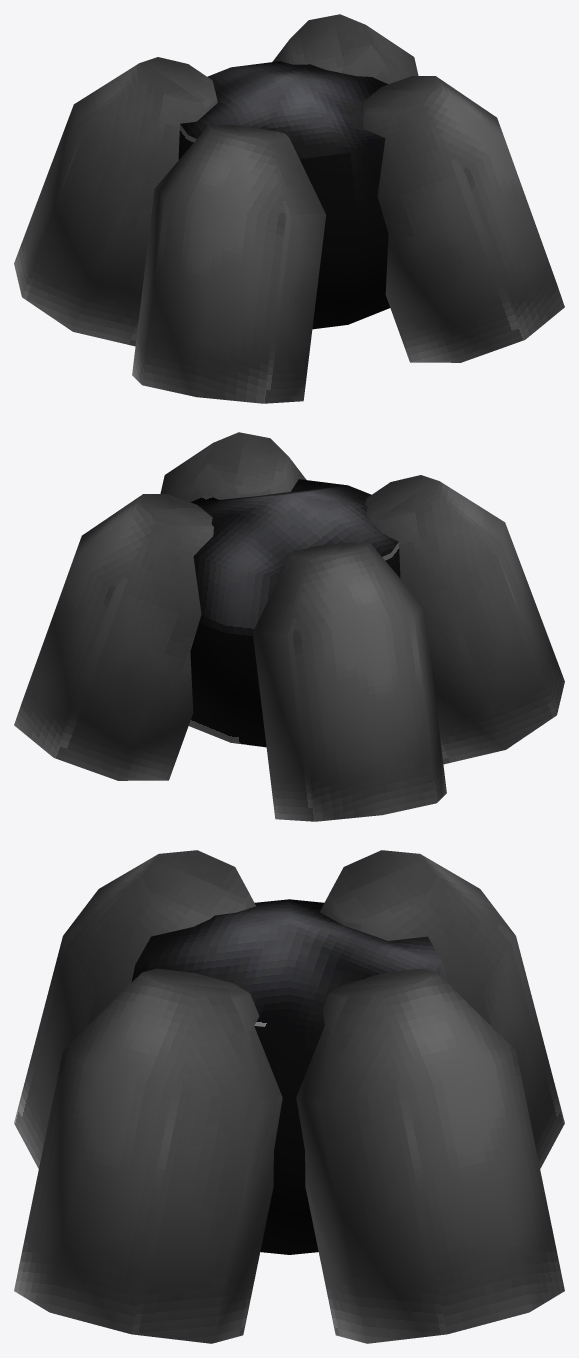
Rendered from chatterbox_trhruster.glb.
3 renders of one model, top to bottom at view 1: azimuth 30°, elevation 25°; view 2: azimuth 150°, elevation 25°; view 3: azimuth 270°, elevation 25°, orthographic. The views are drawn at different scales.
Visible parts, largest first — view 1: Cube; view 2: Cube; view 3: Cube.
Boxes of the visible parts, <box> form: Cube: <box>14,14,564,403</box>; Cube: <box>14,432,564,821</box>; Cube: <box>14,850,564,1343</box>.
Size of the model in its own units: 5.06 by 3.04 by 4.43.
Materials: 1 (1 with a texture image).
